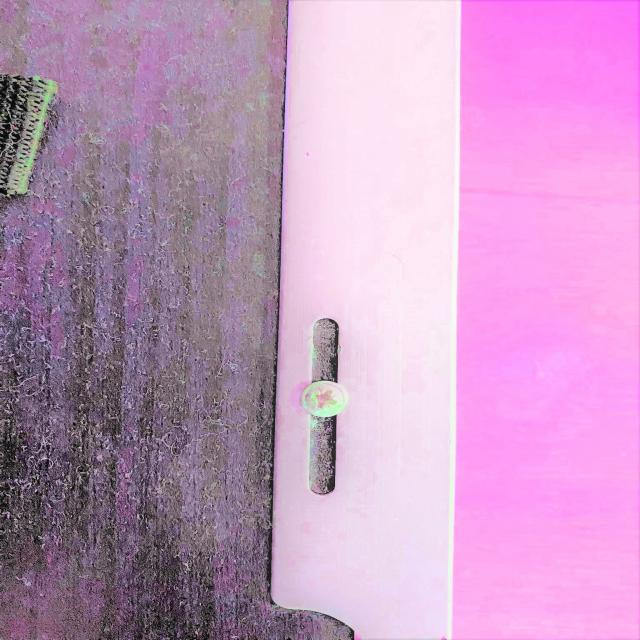PhillipsScrewHead: (301, 380, 349, 418)
